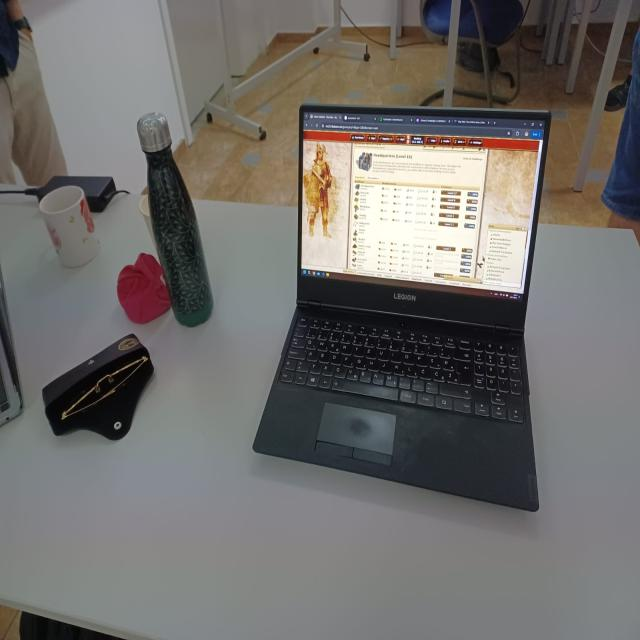Laptops_bbox: (214, 66, 597, 536)
